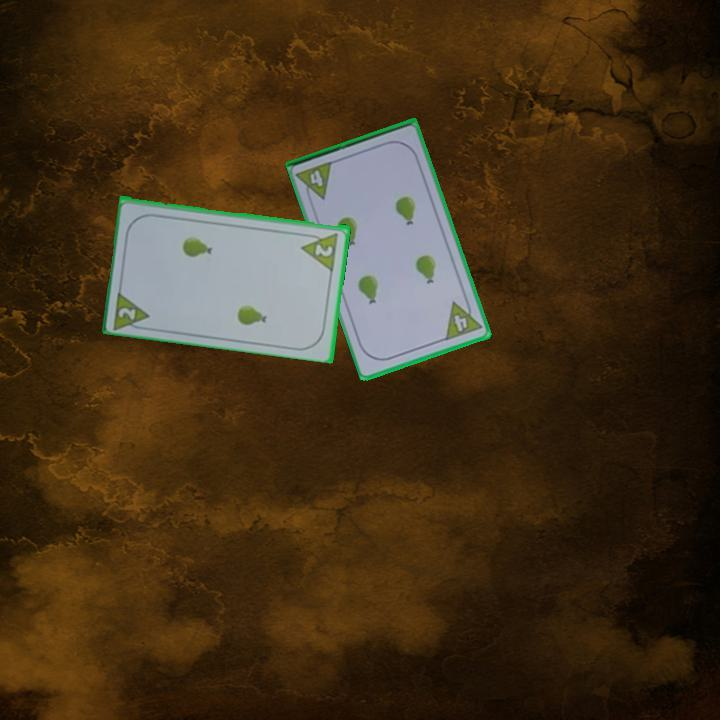2p: (110, 286, 153, 332), (312, 239, 336, 259)
4p: (293, 158, 337, 206), (442, 294, 485, 343)
